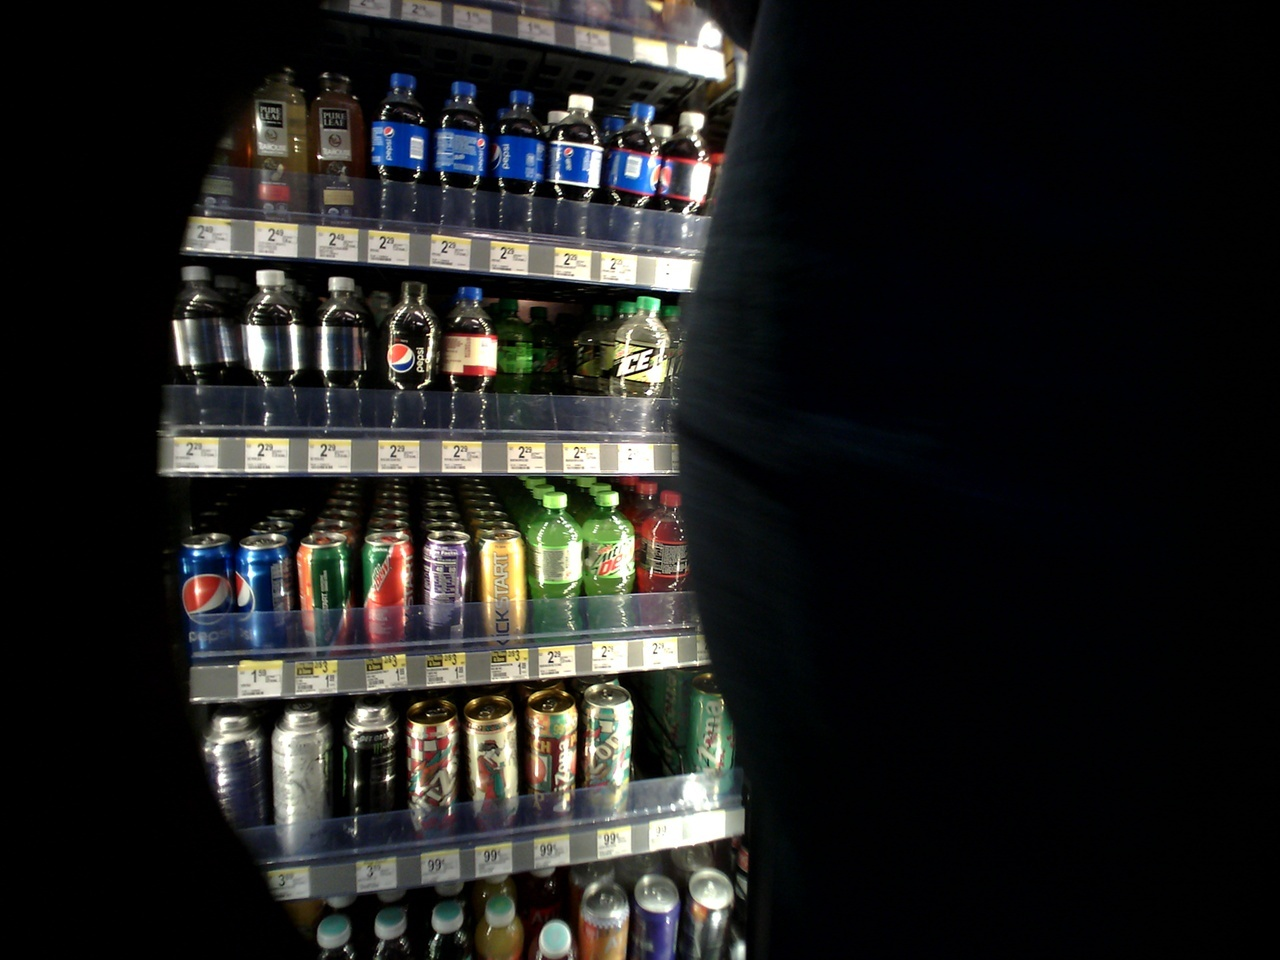shelf: (177, 14, 713, 277), (146, 259, 721, 465), (151, 482, 741, 656), (178, 691, 749, 867)
